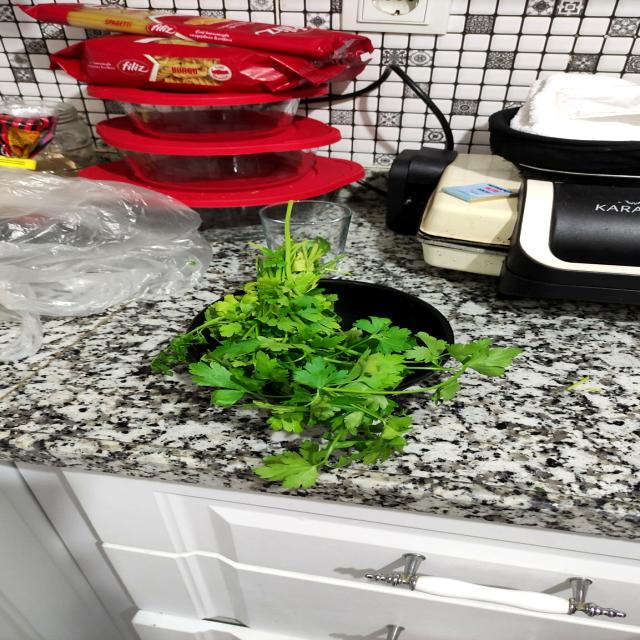parsley: (150, 212, 531, 492)
